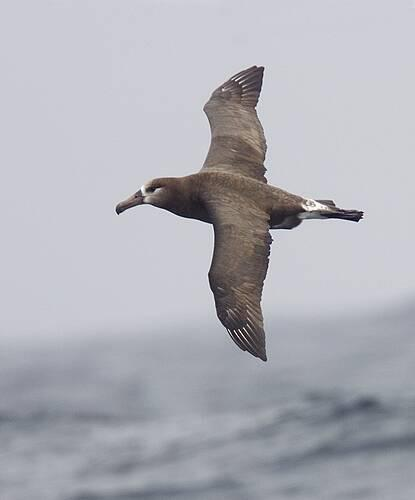001.Black_footed_Albatross: (99, 59, 368, 364)
